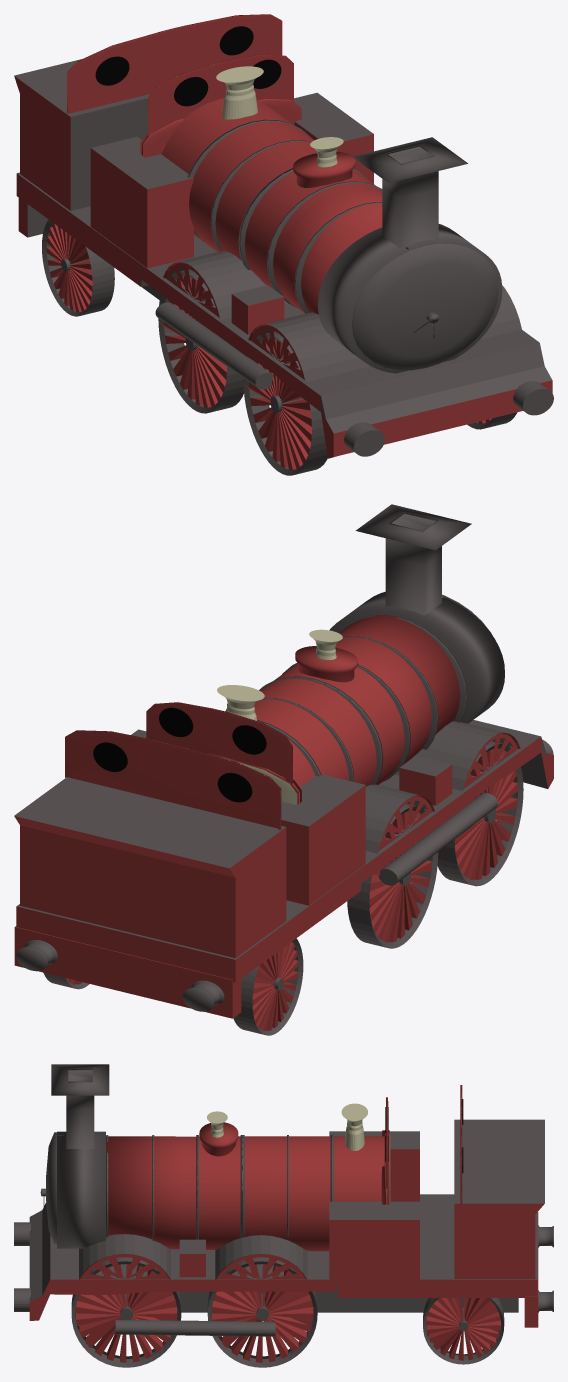
The model's file is lnwr-mcconnell-side-tank.dae.
3 views of the same model, one above another, from view 1: azimuth 30°, elevation 25°; view 2: azimuth 150°, elevation 25°; view 3: azimuth 270°, elevation 25° (orthographic). The views are drawn at different scales.
Parts seen in each view (by area): view 1: Cube_003, Cylinder_008, Cylinder_010, Cube_011, Cube_002, Cube_012, Cylinder_001, Cube_001, Cylinder_013, Lnwr-Splasher_001, Cylinder_003, Cylinder_002 (+16 smaller); view 2: Cube_011, Cylinder_008, Cube_003, Cube_012, Cube_002, Cube_015, Cube_001, Cylinder_013, Cylinder_003, Cylinder_001, Cube_013, Cylinder_002 (+16 smaller); view 3: Cylinder_008, Cube_003, Cube_011, Cube_006, Cylinder_003, Cylinder_001, Cylinder_013, Cylinder_002, Cube_001, Lnwr-Splasher, Lnwr-Splasher_001, Cube_004 (+11 smaller).
Boxes of the visible parts, <box> form: Cube_003: <box>16,172,553,458</box>; Cylinder_008: <box>161,98,382,314</box>; Cylinder_010: <box>352,243,498,370</box>; Cube_011: <box>14,59,150,210</box>; Cube_002: <box>90,136,193,268</box>; Cube_012: <box>67,14,282,113</box>; Cylinder_001: <box>243,331,517,475</box>; Cube_001: <box>352,137,467,247</box>; Cylinder_013: <box>318,224,502,373</box>; Lnwr-Splasher_001: <box>248,285,521,381</box>; Cylinder_003: <box>158,269,243,413</box>; Cylinder_002: <box>42,219,114,316</box>; Cube_011: <box>14,777,286,958</box>; Cylinder_008: <box>254,614,460,787</box>; Cube_003: <box>16,720,553,982</box>; Cube_012: <box>65,730,281,829</box>; Cube_002: <box>281,774,365,905</box>; Cube_015: <box>14,926,241,1018</box>; Cube_001: <box>355,504,471,615</box>; Cylinder_013: <box>329,591,504,723</box>; Cylinder_003: <box>347,803,438,948</box>; Cylinder_001: <box>437,741,523,886</box>; Cube_013: <box>146,702,292,783</box>; Cylinder_002: <box>43,938,303,1035</box>; Cylinder_008: <box>106,1136,384,1251</box>; Cube_003: <box>14,1194,537,1320</box>; Cube_011: <box>454,1119,544,1278</box>; Cube_006: <box>329,1201,419,1282</box>; Cylinder_003: <box>207,1257,317,1367</box>; Cylinder_001: <box>71,1257,181,1367</box>; Cylinder_013: <box>57,1131,105,1248</box>; Cylinder_002: <box>423,1298,504,1364</box>; Cube_001: <box>51,1064,109,1148</box>; Lnwr-Splasher: <box>215,1235,307,1279</box>; Lnwr-Splasher_001: <box>79,1234,170,1279</box>; Cube_004: <box>179,1291,518,1312</box>.
Size of the model in its own units: 2.15 by 5.16 by 2.64.
